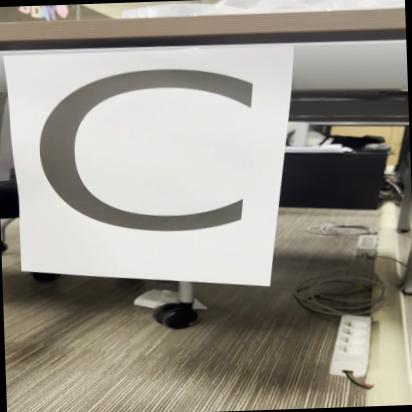seat: (9, 44, 287, 284)
